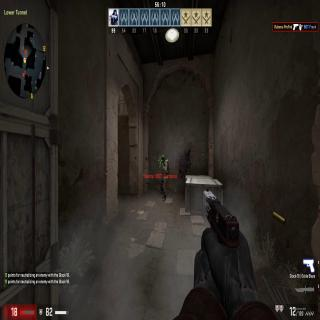CT-Body: (158, 154, 170, 194)
CT-Head: (160, 155, 166, 165)
